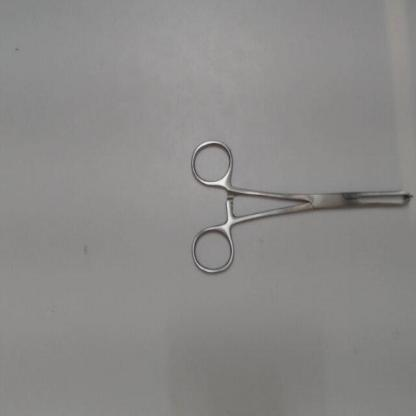Allis Tissue Forceps: (187, 132, 413, 288)
